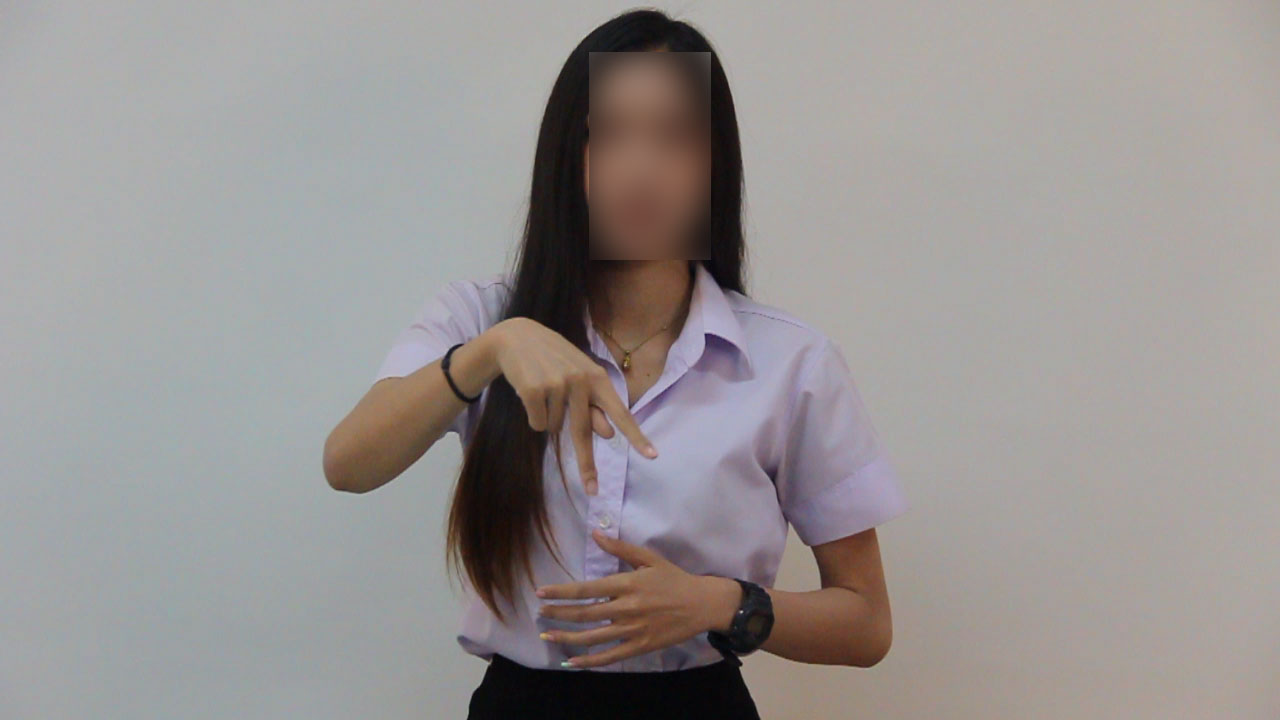por: (476, 302, 669, 502)
